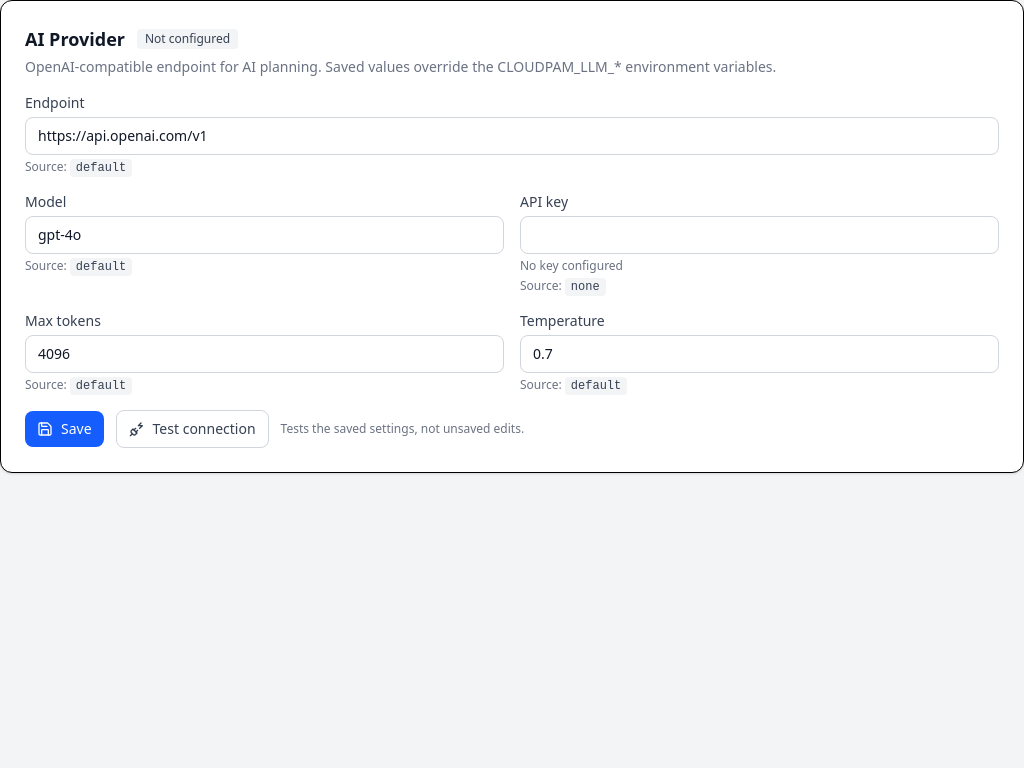
AIProviderSettingsCard › shows the sanitized error after a failed test
The image size is (1024, 768).
Expected: the field labelled "Endpoint" is shown, [25, 117, 999, 155]
Expected: the field labelled "Model" is not empty, [25, 216, 504, 254]
Click the button "Test connection" at (192, 429), box [116, 410, 269, 448]
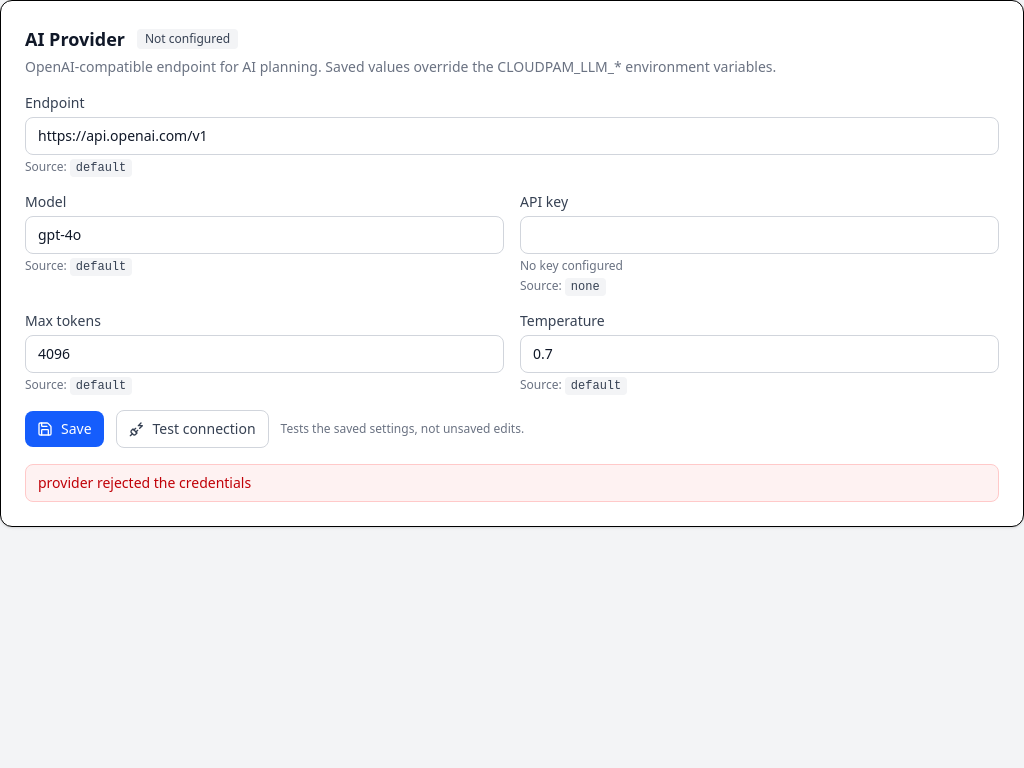
Expected: the text "provider rejected the credentials" is shown, [25, 464, 999, 502]
